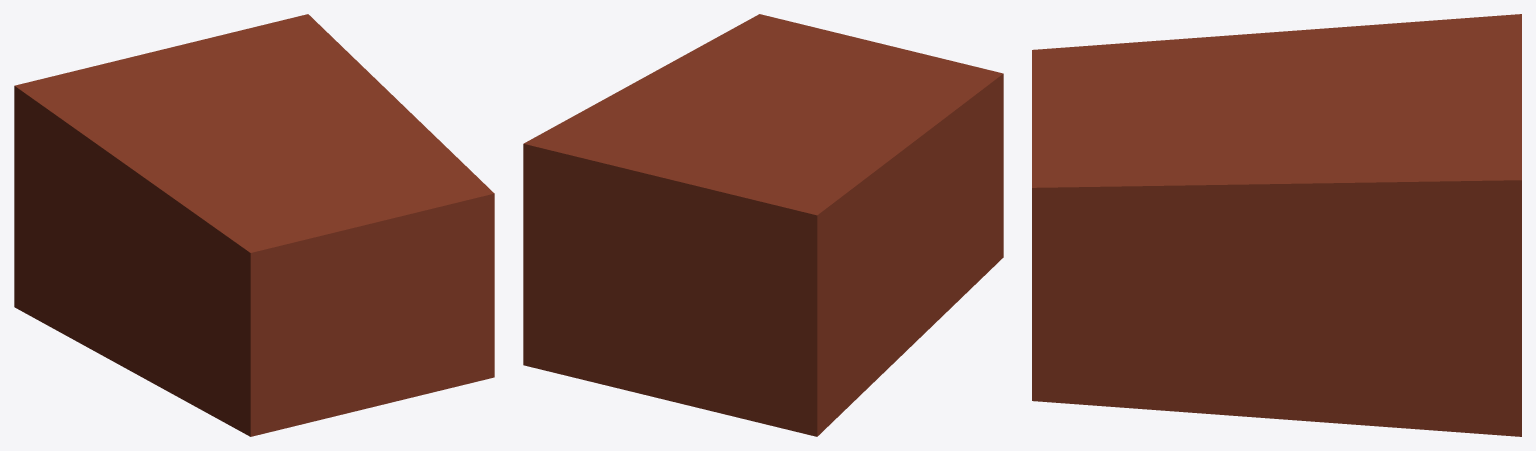
File: automine.glb
The picture shows the model from 3 angles, left to right: view 1: azimuth 30°, elevation 25°; view 2: azimuth 150°, elevation 25°; view 3: azimuth 270°, elevation 25°; orthographic projection. The views are drawn at different scales.
Visible parts, largest first — view 1: Cube.008; view 2: Cube.008; view 3: Cube.008.
Boxes of the visible parts, x1,y1,x2,y2 form: Cube.008: (14,14,494,436); Cube.008: (523,14,1003,436); Cube.008: (1032,14,1521,436).
Bounding box in the file's own units: 1.2 × 0.8678 × 1.5.
